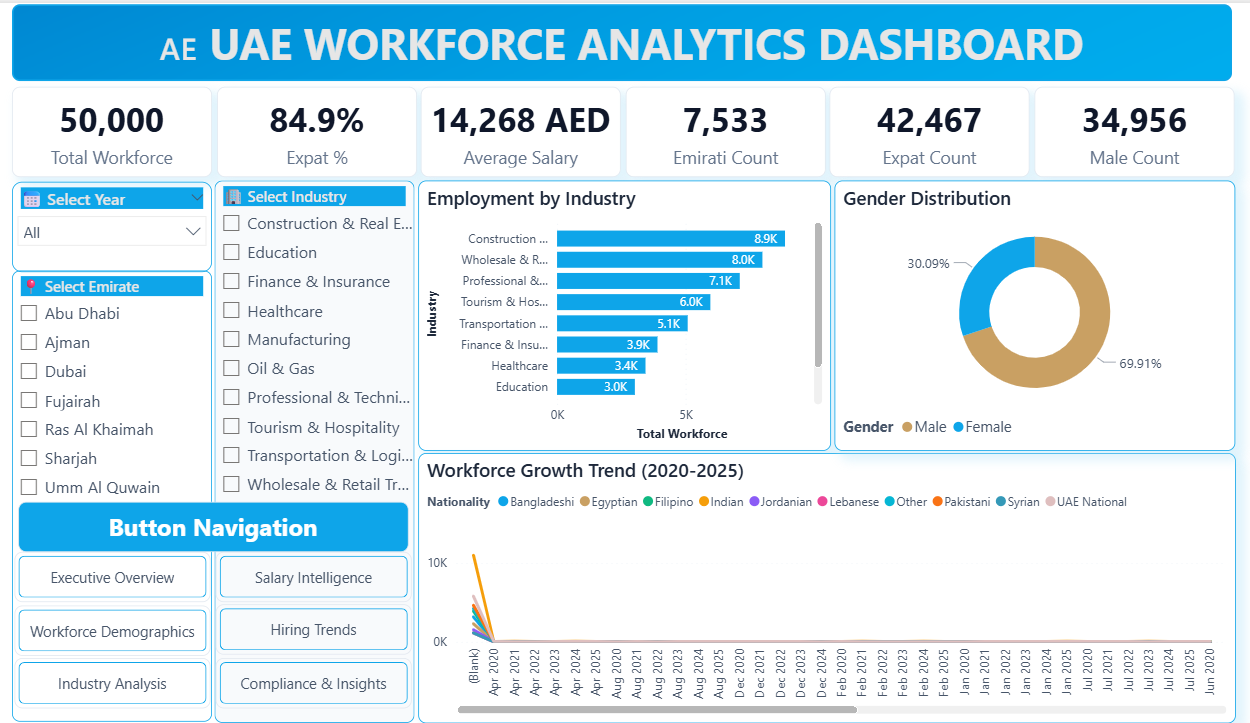

The page's visual inventory and layout, read from the dashboard file:
{"tool":"powerbi","page":{"name":"Executive Overview","canvas":[1280,720],"ordinal":0},"visuals":[{"type":"card","fields":{"Values":["All Measures.Total Workforce"]},"box":[30.4,83.5,200,90],"z":1000},{"type":"card","fields":{"Values":["All Measures.Expat %"]},"box":[234.5,83.5,200.3,90],"z":2000},{"type":"card","fields":{"Values":["All Measures.Average Salary"]},"box":[438.9,83.5,200.3,90],"z":3000},{"type":"card","fields":{"Values":["All Measures.Emirati Count"]},"box":[643.4,83.5,200.3,90],"z":4000},{"type":"card","fields":{"Values":["All Measures.Expat Count"]},"box":[847.8,83.5,200.3,90],"z":5000},{"type":"card","fields":{"Values":["All Measures.Male Count"]},"box":[1052.2,83.5,200.3,90],"z":6000},{"type":"clusteredBarChart","title":"Employment by Industry","fields":{"Category":["workforce_data.Industry"],"Y":["All Measures.Total Workforce"]},"box":[436.2,177.1,413,270],"z":7000},{"type":"slicer","fields":{"Values":["Date.Year"]},"box":[29.5,178.2,200,90],"z":8000},{"type":"slicer","fields":{"Values":["workforce_data.Emirate"]},"box":[30,267.5,200,451],"z":9000},{"type":"slicer","fields":{"Values":["workforce_data.Industry"]},"box":[232.8,177.5,200,542.5],"z":10000},{"type":"lineChart","title":"Workforce Growth Trend (2020-2025)","fields":{"Y":["All Measures.Total Workforce"],"Category":["Date.MonthYear"],"Series":["workforce_data.Nationality"]},"box":[436.2,450,817.5,270],"z":11000},{"type":"donutChart","title":"Gender Distribution","fields":{"Category":["workforce_data.Gender"],"Y":["All Measures.Total Workforce"]},"box":[852.5,177.1,400.7,270],"z":12000},{"type":"image","box":[30,1.2,1220,77],"z":13000,"group":"g1"},{"type":"textbox","box":[30.5,1.2,1220,77],"z":14000,"group":"g1"},{"type":"group","id":"g1","title":"Group 1","box":[30,1.2,1220.5,77],"z":14001},{"type":"actionButton","box":[32,548.8,196,50],"z":14508},{"type":"actionButton","box":[32,601.9,196,50],"z":15008},{"type":"actionButton","box":[32,655,196,50],"z":15508},{"type":"actionButton","box":[234,548.3,196,50],"z":16008},{"type":"actionButton","box":[234,601.6,196,50],"z":16508},{"type":"actionButton","box":[234,655,196,50],"z":17008},{"type":"textbox","box":[36,498.8,390,50],"z":17009}]}

Visuals, with their boxes in screenshot pixels (x1, y1, x2, y2), scaled from the page's 1280x720 canvas onto the 1250x723 screenshot:
card - All Measures.Total Workforce: region(30, 84, 225, 174)
card - All Measures.Expat %: region(229, 84, 425, 174)
card - All Measures.Average Salary: region(429, 84, 624, 174)
card - All Measures.Emirati Count: region(628, 84, 824, 174)
card - All Measures.Expat Count: region(828, 84, 1024, 174)
card - All Measures.Male Count: region(1028, 84, 1223, 174)
"Employment by Industry" clusteredBarChart: region(426, 178, 829, 449)
slicer - Date.Year: region(29, 179, 224, 269)
slicer - workforce_data.Emirate: region(29, 269, 225, 721)
slicer - workforce_data.Industry: region(227, 178, 423, 722)
"Workforce Growth Trend (2020-2025)" lineChart: region(426, 452, 1224, 722)
"Gender Distribution" donutChart: region(833, 178, 1224, 449)
image: region(29, 1, 1221, 79)
textbox: region(30, 1, 1221, 79)
"Group 1" group: region(29, 1, 1221, 79)
actionButton: region(31, 551, 223, 601)
actionButton: region(31, 604, 223, 655)
actionButton: region(31, 658, 223, 708)
actionButton: region(229, 551, 420, 601)
actionButton: region(229, 604, 420, 654)
actionButton: region(229, 658, 420, 708)
textbox: region(35, 501, 416, 551)
